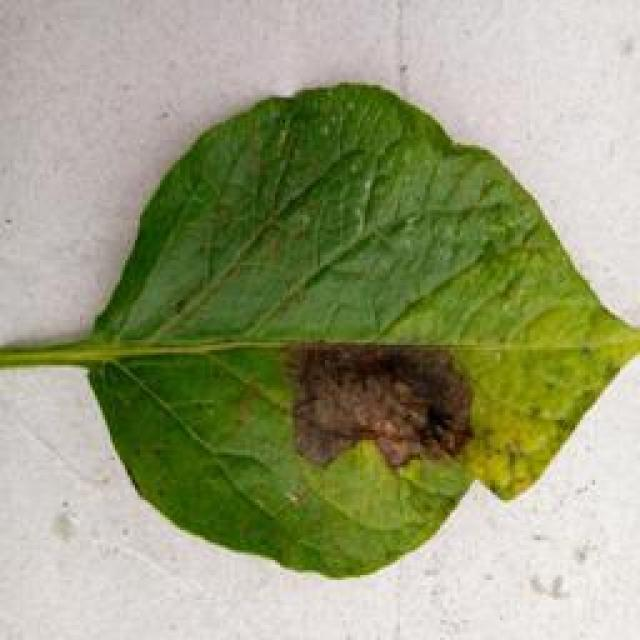late_blight: (80, 78, 638, 582)
